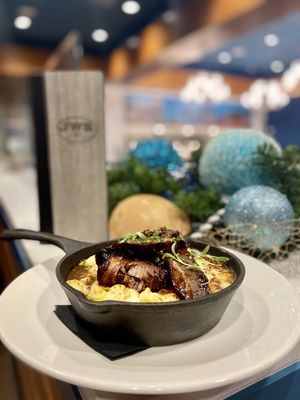sushi: (56, 231, 246, 347)
